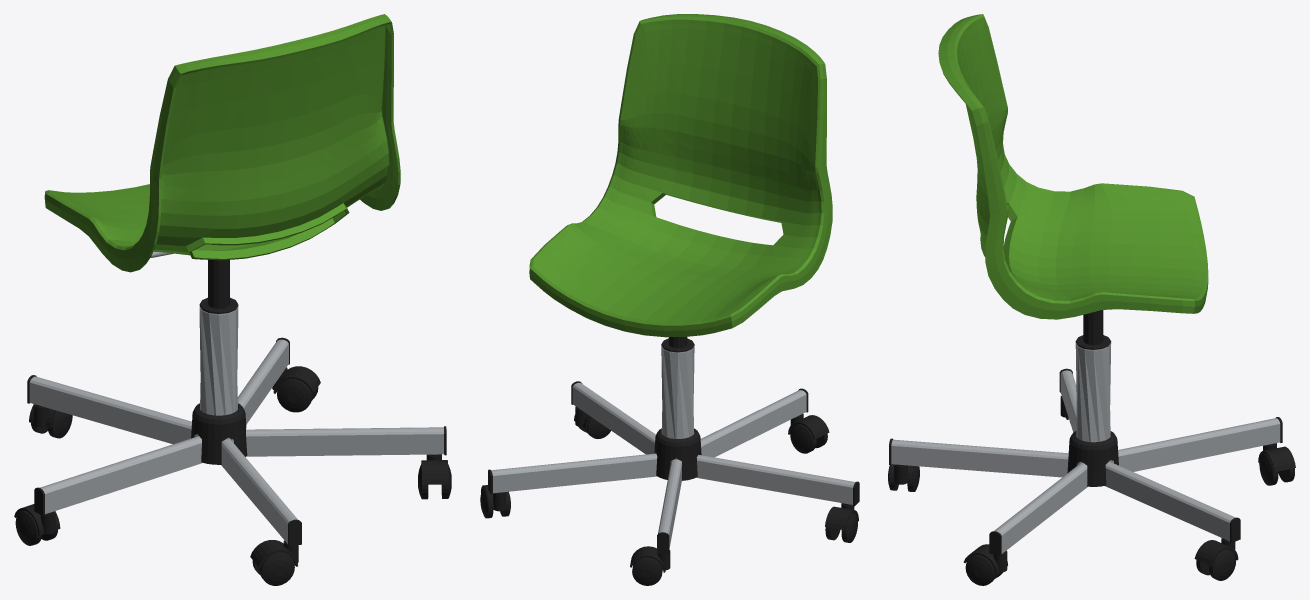
The picture shows the model from 3 angles, left to right: view 1: azimuth 30°, elevation 25°; view 2: azimuth 150°, elevation 25°; view 3: azimuth 270°, elevation 25°; orthographic projection. The views are drawn at different scales.
Parts seen in each view (by area): view 1: Mesh2 Group2 SNILLE_IKEA1 Model, Mesh8 Group6 SNILLE_IKEA1 Model, Mesh7 Group5 SNILLE_IKEA1 Model, Mesh1 Group1 SNILLE_IKEA1 Model, Mesh3 Group3 SNILLE_IKEA1 Model, Mesh16 ROULETTE3 SNILLE_IKEA1 Model, Mesh20 ROULETTE4 SNILLE_IKEA1 Model, Mesh12 ROULETTE2 SNILLE_IKEA1 Model, Mesh18 ROULETTE4 SNILLE_IKEA1 Model, Mesh15 ROULETTE3 SNILLE_IKEA1 Model, Mesh11 ROULETTE1 SNILLE_IKEA1 Model, Mesh9 ROULETTE1 SNILLE_IKEA1 Model; view 2: Mesh2 Group2 SNILLE_IKEA1 Model, Mesh8 Group6 SNILLE_IKEA1 Model, Mesh7 Group5 SNILLE_IKEA1 Model, Mesh1 Group1 SNILLE_IKEA1 Model, Mesh23 ROULETTE5 SNILLE_IKEA1 Model, Mesh9 ROULETTE1 SNILLE_IKEA1 Model, Mesh19 ROULETTE4 SNILLE_IKEA1 Model, Mesh18 ROULETTE4 SNILLE_IKEA1 Model, Mesh21 ROULETTE5 SNILLE_IKEA1 Model; view 3: Mesh2 Group2 SNILLE_IKEA1 Model, Mesh8 Group6 SNILLE_IKEA1 Model, Mesh7 Group5 SNILLE_IKEA1 Model, Mesh1 Group1 SNILLE_IKEA1 Model, Mesh3 Group3 SNILLE_IKEA1 Model, Mesh14 ROULETTE2 SNILLE_IKEA1 Model, Mesh21 ROULETTE5 SNILLE_IKEA1 Model, Mesh15 ROULETTE3 SNILLE_IKEA1 Model, Mesh17 ROULETTE3 SNILLE_IKEA1 Model, Mesh12 ROULETTE2 SNILLE_IKEA1 Model.
Part boxes in pixels (x1=…): Mesh2 Group2 SNILLE_IKEA1 Model: x1=44, y1=14, x2=400, y2=272; Mesh8 Group6 SNILLE_IKEA1 Model: x1=27, y1=337, x2=446, y2=546; Mesh7 Group5 SNILLE_IKEA1 Model: x1=199, y1=306, x2=238, y2=415; Mesh1 Group1 SNILLE_IKEA1 Model: x1=191, y1=403, x2=247, y2=464; Mesh3 Group3 SNILLE_IKEA1 Model: x1=199, y1=260, x2=238, y2=313; Mesh16 ROULETTE3 SNILLE_IKEA1 Model: x1=277, y1=379, x2=312, y2=412; Mesh20 ROULETTE4 SNILLE_IKEA1 Model: x1=259, y1=552, x2=294, y2=585; Mesh12 ROULETTE2 SNILLE_IKEA1 Model: x1=421, y1=454, x2=448, y2=484; Mesh18 ROULETTE4 SNILLE_IKEA1 Model: x1=250, y1=540, x2=298, y2=567; Mesh15 ROULETTE3 SNILLE_IKEA1 Model: x1=272, y1=366, x2=320, y2=393; Mesh11 ROULETTE1 SNILLE_IKEA1 Model: x1=15, y1=510, x2=41, y2=545; Mesh9 ROULETTE1 SNILLE_IKEA1 Model: x1=14, y1=504, x2=60, y2=535; Mesh2 Group2 SNILLE_IKEA1 Model: x1=529, y1=14, x2=832, y2=337; Mesh8 Group6 SNILLE_IKEA1 Model: x1=488, y1=381, x2=859, y2=554; Mesh7 Group5 SNILLE_IKEA1 Model: x1=661, y1=346, x2=694, y2=438; Mesh1 Group1 SNILLE_IKEA1 Model: x1=654, y1=428, x2=701, y2=480; Mesh23 ROULETTE5 SNILLE_IKEA1 Model: x1=632, y1=557, x2=662, y2=585; Mesh9 ROULETTE1 SNILLE_IKEA1 Model: x1=825, y1=503, x2=858, y2=530; Mesh19 ROULETTE4 SNILLE_IKEA1 Model: x1=790, y1=424, x2=816, y2=453; Mesh18 ROULETTE4 SNILLE_IKEA1 Model: x1=788, y1=414, x2=829, y2=439; Mesh21 ROULETTE5 SNILLE_IKEA1 Model: x1=630, y1=546, x2=670, y2=572; Mesh2 Group2 SNILLE_IKEA1 Model: x1=938, y1=14, x2=1208, y2=319; Mesh8 Group6 SNILLE_IKEA1 Model: x1=889, y1=368, x2=1282, y2=555; Mesh7 Group5 SNILLE_IKEA1 Model: x1=1075, y1=343, x2=1111, y2=442; Mesh1 Group1 SNILLE_IKEA1 Model: x1=1067, y1=431, x2=1118, y2=486; Mesh3 Group3 SNILLE_IKEA1 Model: x1=1075, y1=310, x2=1111, y2=349; Mesh14 ROULETTE2 SNILLE_IKEA1 Model: x1=965, y1=555, x2=996, y2=585; Mesh21 ROULETTE5 SNILLE_IKEA1 Model: x1=1258, y1=443, x2=1295, y2=472; Mesh15 ROULETTE3 SNILLE_IKEA1 Model: x1=1194, y1=538, x2=1238, y2=566; Mesh17 ROULETTE3 SNILLE_IKEA1 Model: x1=1209, y1=549, x2=1235, y2=580; Mesh12 ROULETTE2 SNILLE_IKEA1 Model: x1=963, y1=544, x2=1007, y2=574.
Bounding box in the file's own units: 0.5811 × 0.7451 × 0.5972.
